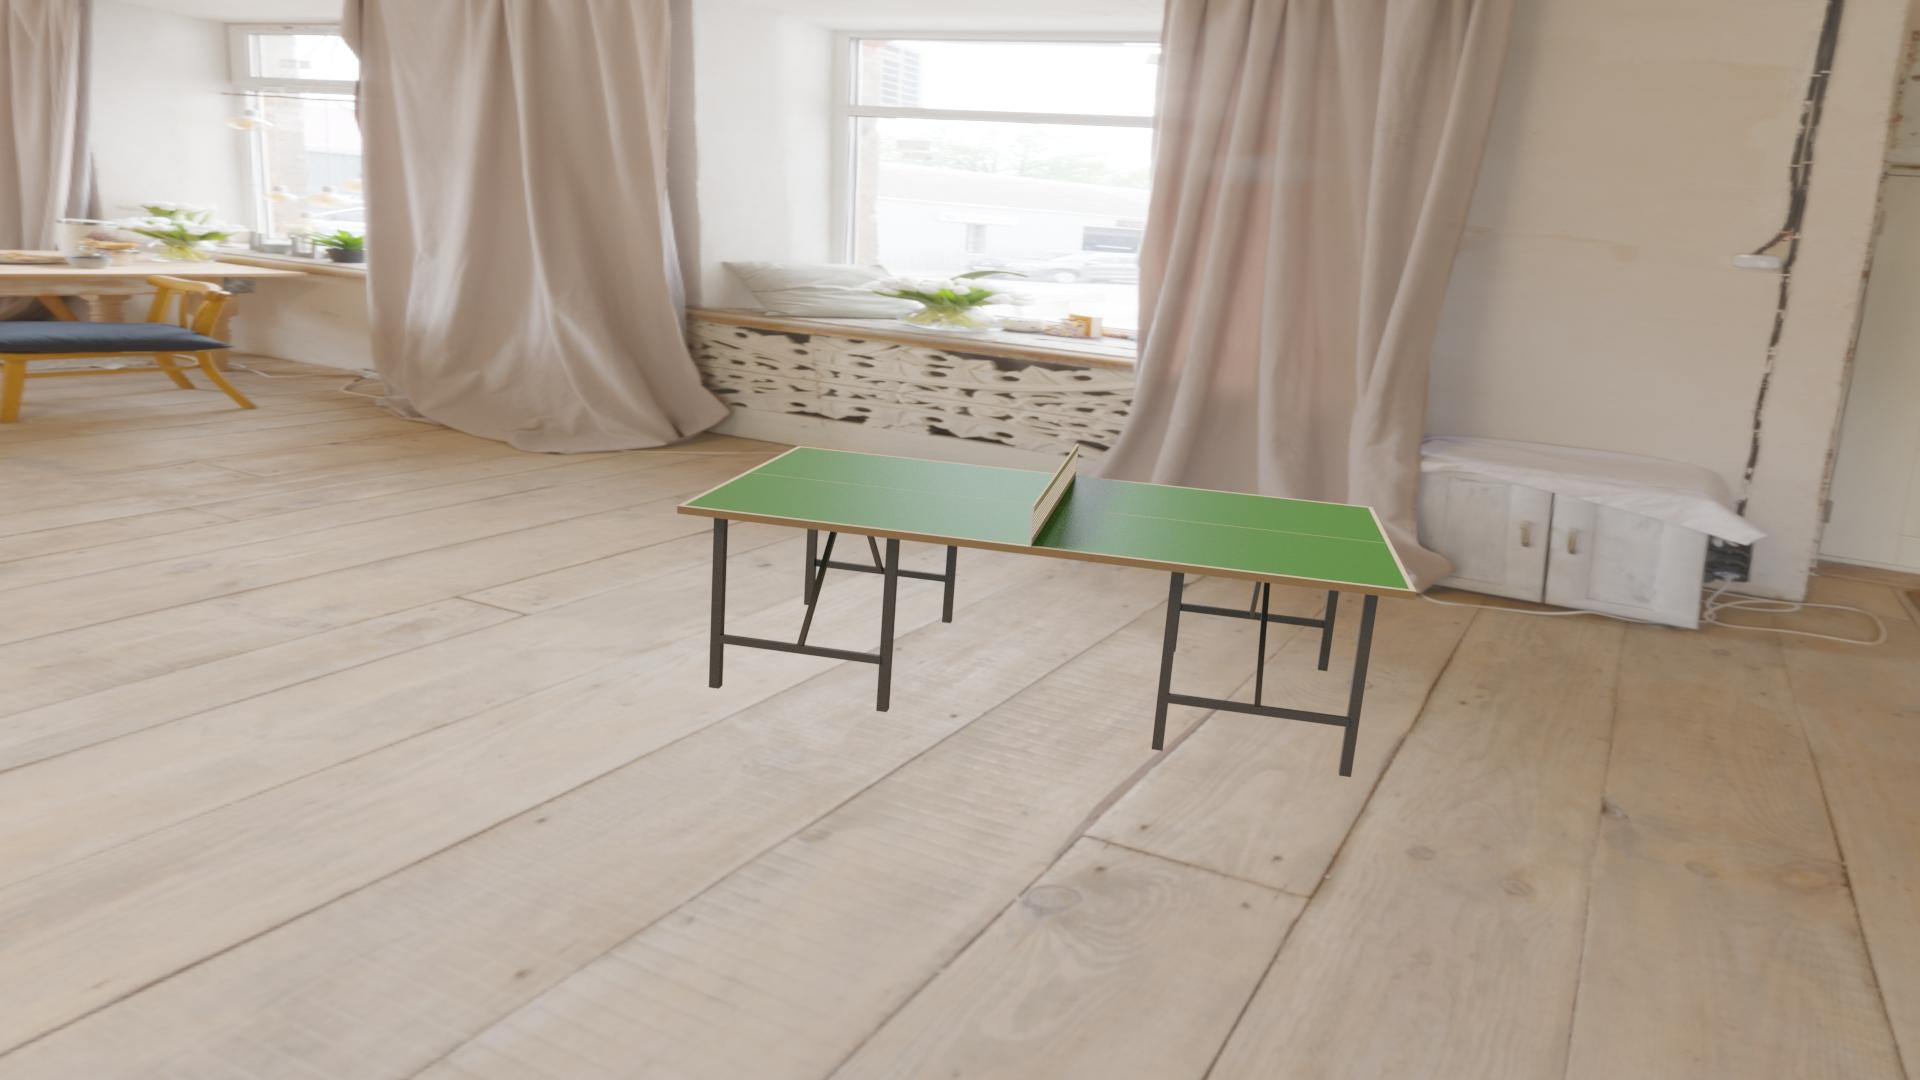table: (684, 447, 1410, 589)
